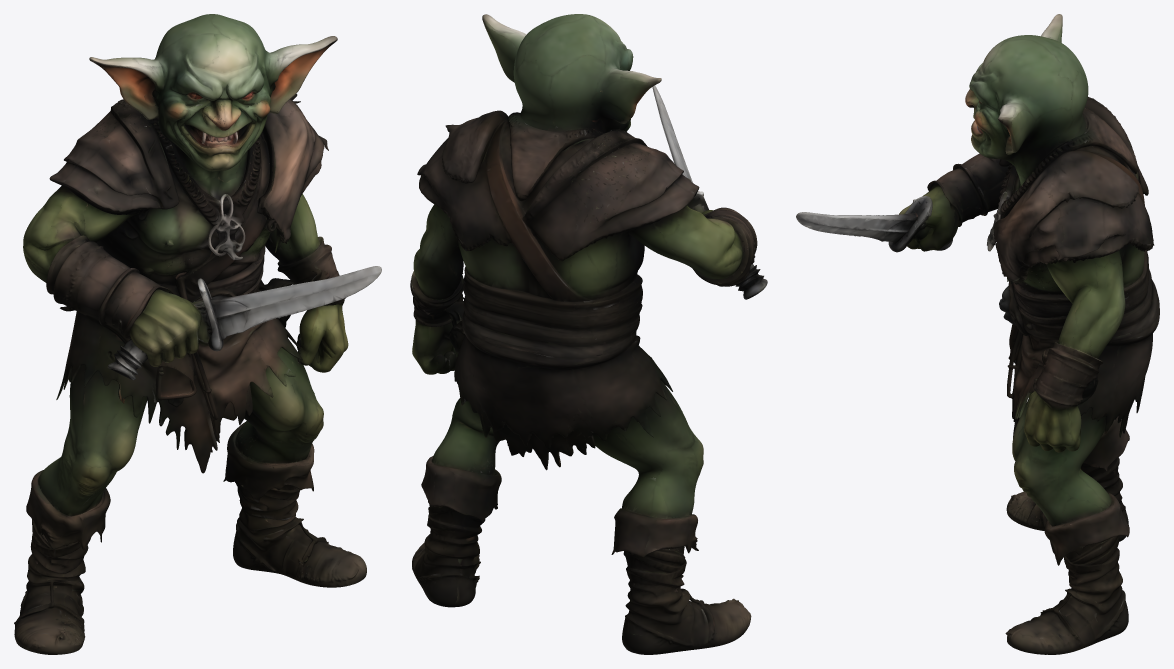
The model's file is goblin.glb.
3 views of the same model, side by side, from view 1: azimuth 30°, elevation 25°; view 2: azimuth 150°, elevation 25°; view 3: azimuth 270°, elevation 25° (orthographic). The views are drawn at different scales.
Parts seen in each view (by area): view 1: material; view 2: material; view 3: material.
Part boxes in pixels (x1,y1,x2,y2): material: (14,14,381,654); material: (410,14,767,654); material: (796,14,1159,654).
Bounding box in the file's own units: 0.605 × 1.01 × 0.6102.
1 material, 1 textured.
